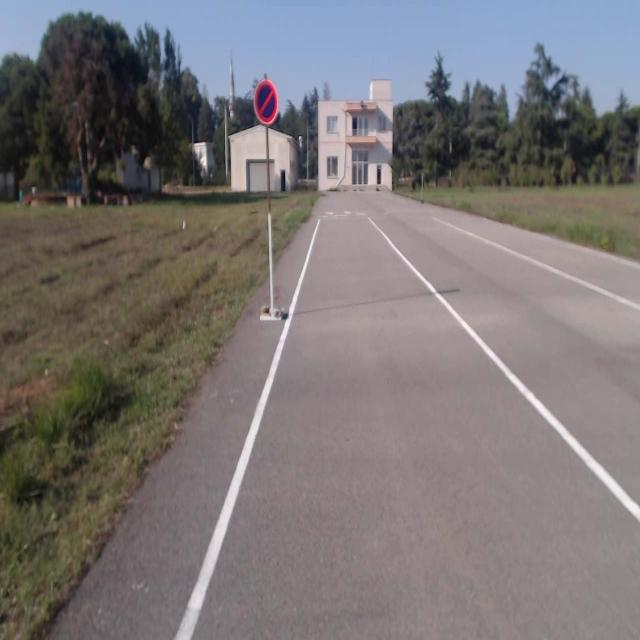parkyasak: (254, 79, 278, 124)
